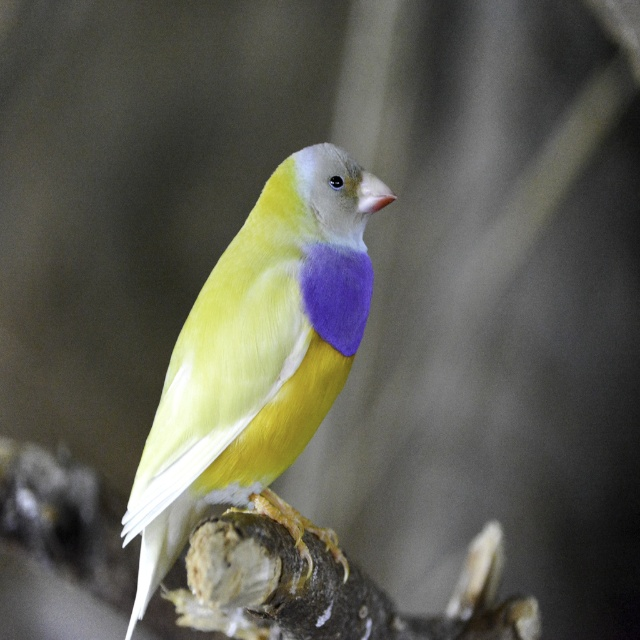Canary: (119, 142, 396, 639)
